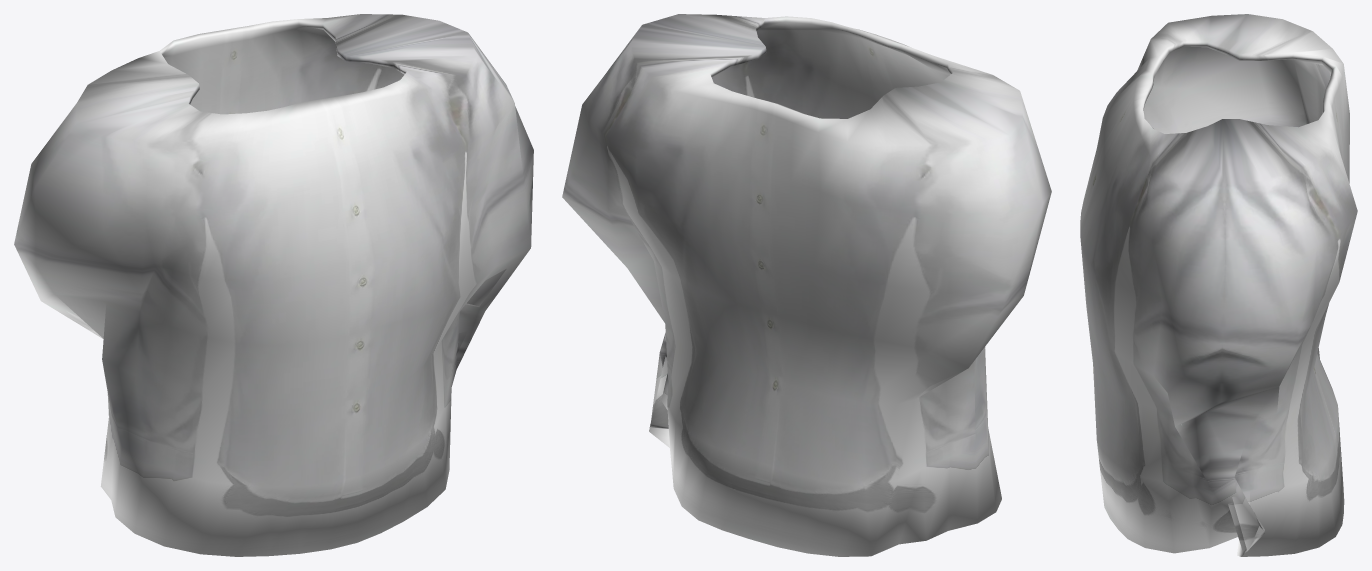
Rendered from 91049fb9-39dd-457e-bfd8-8ca74b269811.glb.
3 renders of one model, left to right at view 1: azimuth 30°, elevation 25°; view 2: azimuth 150°, elevation 25°; view 3: azimuth 270°, elevation 25°, orthographic. The views are drawn at different scales.
Parts seen in each view (by area): view 1: garment; view 2: garment; view 3: garment.
Part boxes in pixels (x1,y1,x2,y2): garment: (14, 14, 533, 556); garment: (562, 14, 1051, 556); garment: (1080, 14, 1357, 556).
Bounding box in the file's own units: 0.5836 × 0.5048 × 0.3039.
1 material, 1 textured.
